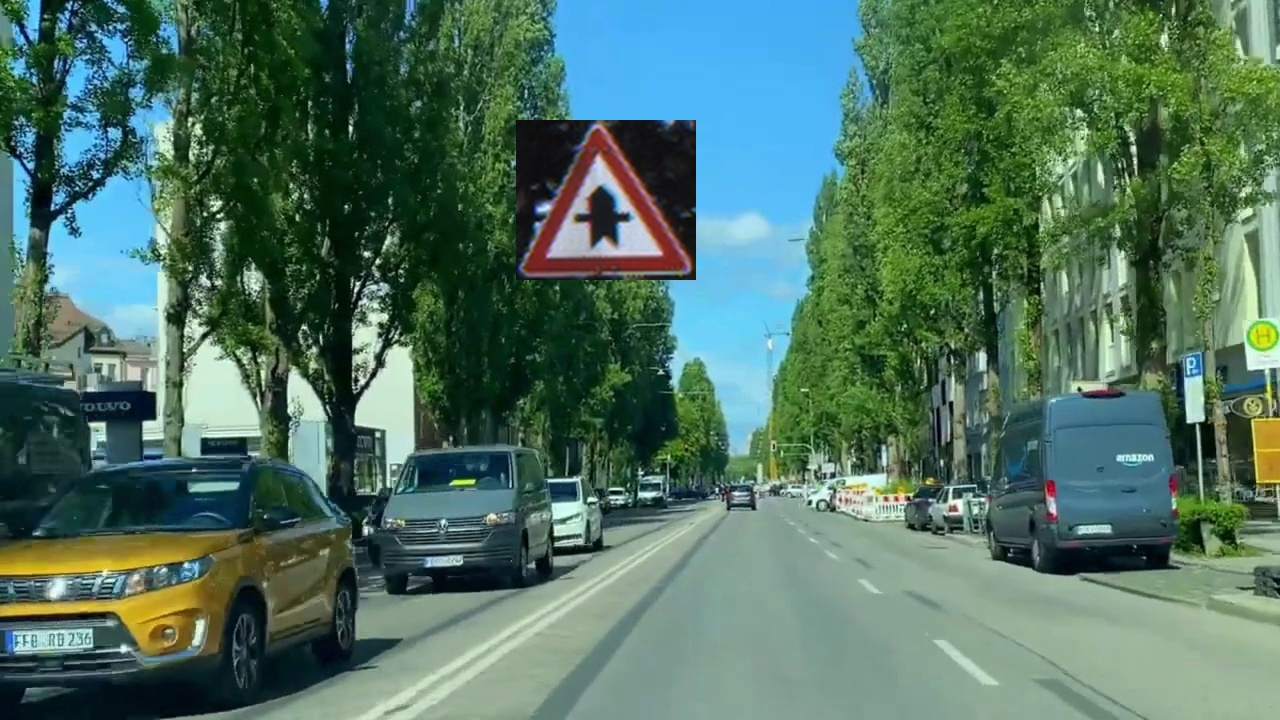Right-of-way: (516, 120, 696, 280)
